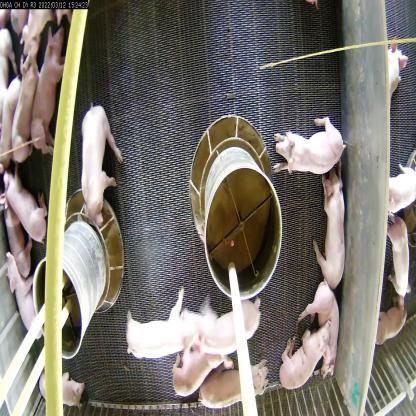Pig: (76, 102, 123, 217), (273, 109, 346, 182), (196, 356, 272, 416), (0, 164, 56, 239), (127, 307, 198, 366), (275, 326, 334, 393), (307, 283, 349, 376), (194, 304, 265, 359), (314, 176, 348, 286), (33, 27, 63, 150), (38, 353, 90, 416), (0, 194, 34, 288), (6, 48, 34, 162), (169, 345, 223, 401), (0, 255, 38, 334)
